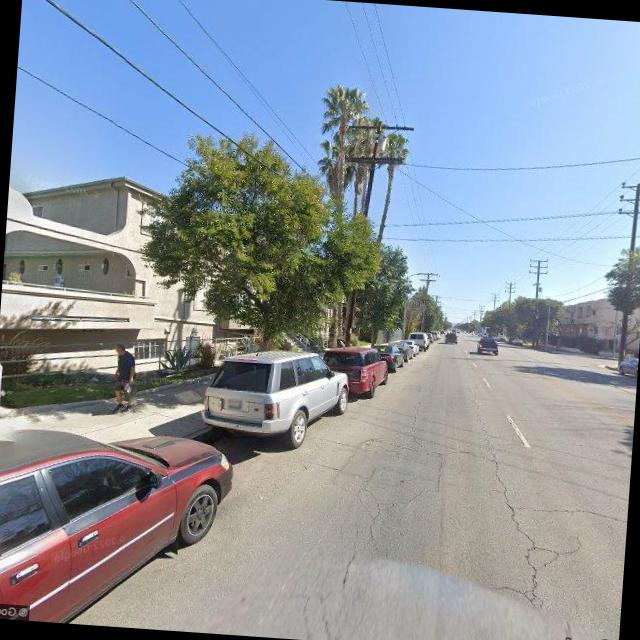crack: (457, 393, 554, 613), (315, 494, 389, 637), (506, 501, 628, 526)
